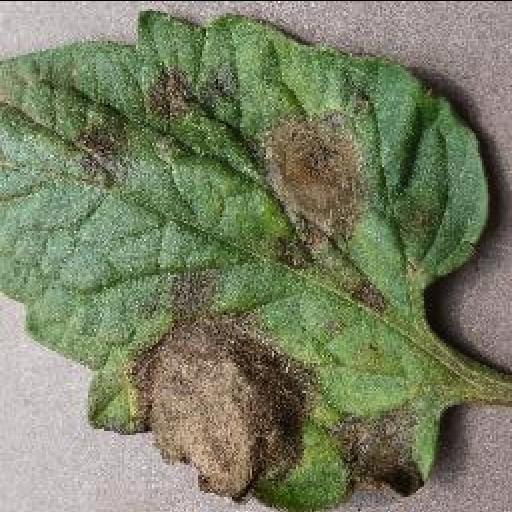disease_tomato: (0, 10, 490, 512)
